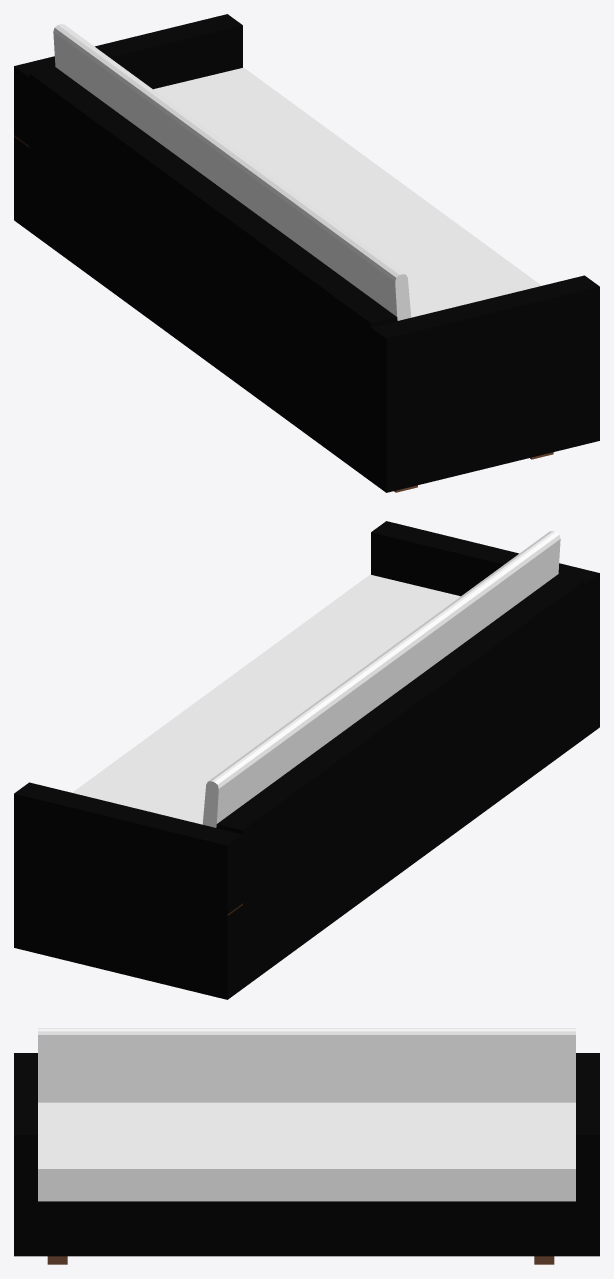
Rendered from Couch.fbx.
The picture shows the model from 3 angles, top to bottom: view 1: azimuth 30°, elevation 25°; view 2: azimuth 150°, elevation 25°; view 3: azimuth 270°, elevation 25°; orthographic projection. The views are drawn at different scales.
Visible parts, largest first — view 1: Couch; view 2: Couch; view 3: Couch.
Boxes of the visible parts, box(x1,y1,x2,y2) form: Couch: box(14, 14, 599, 492); Couch: box(14, 521, 599, 999); Couch: box(14, 1028, 599, 1264).
Size of the model in its own units: 87.48 by 85.98 by 260.
